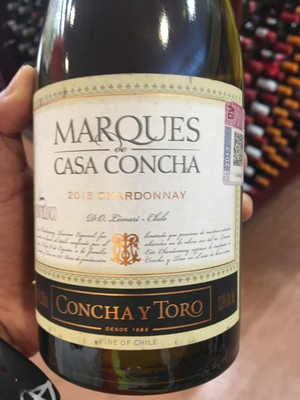marques de casa concha chardonnay: (25, 4, 267, 392)
